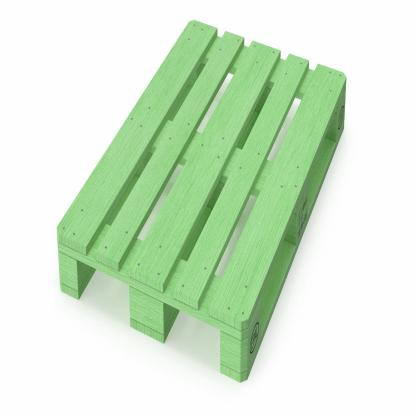BoxFace: (55, 17, 347, 386)
